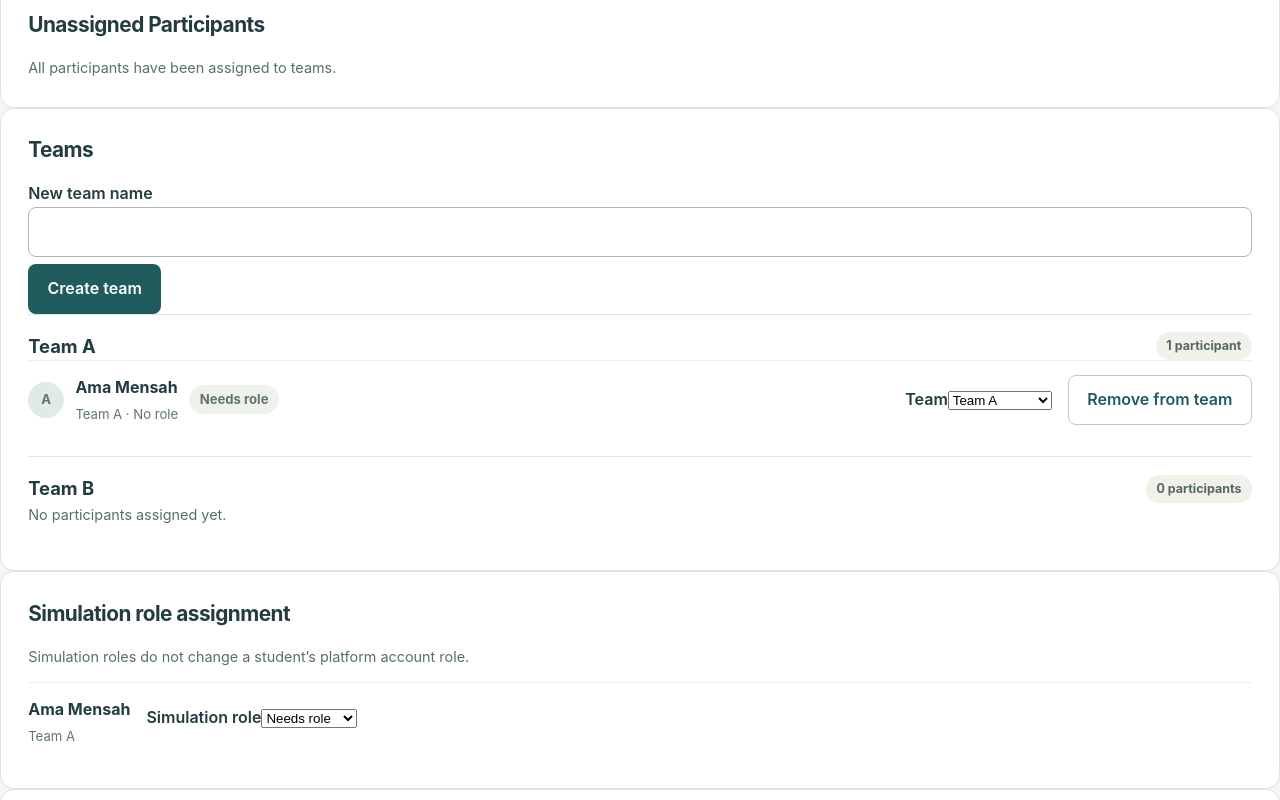
Test: instructor session setup › moves a participant between teams and removes them from the team using refreshed state
The image size is (1280, 800).
(page scrolled)
Check: the heading "Team A" is shown, box x1=28 y1=334 x2=96 y2=359
Select "Team B" in the dropdown named "Team for Ama Mensah": (1000, 401) x1=948 y1=391 x2=1052 y2=410
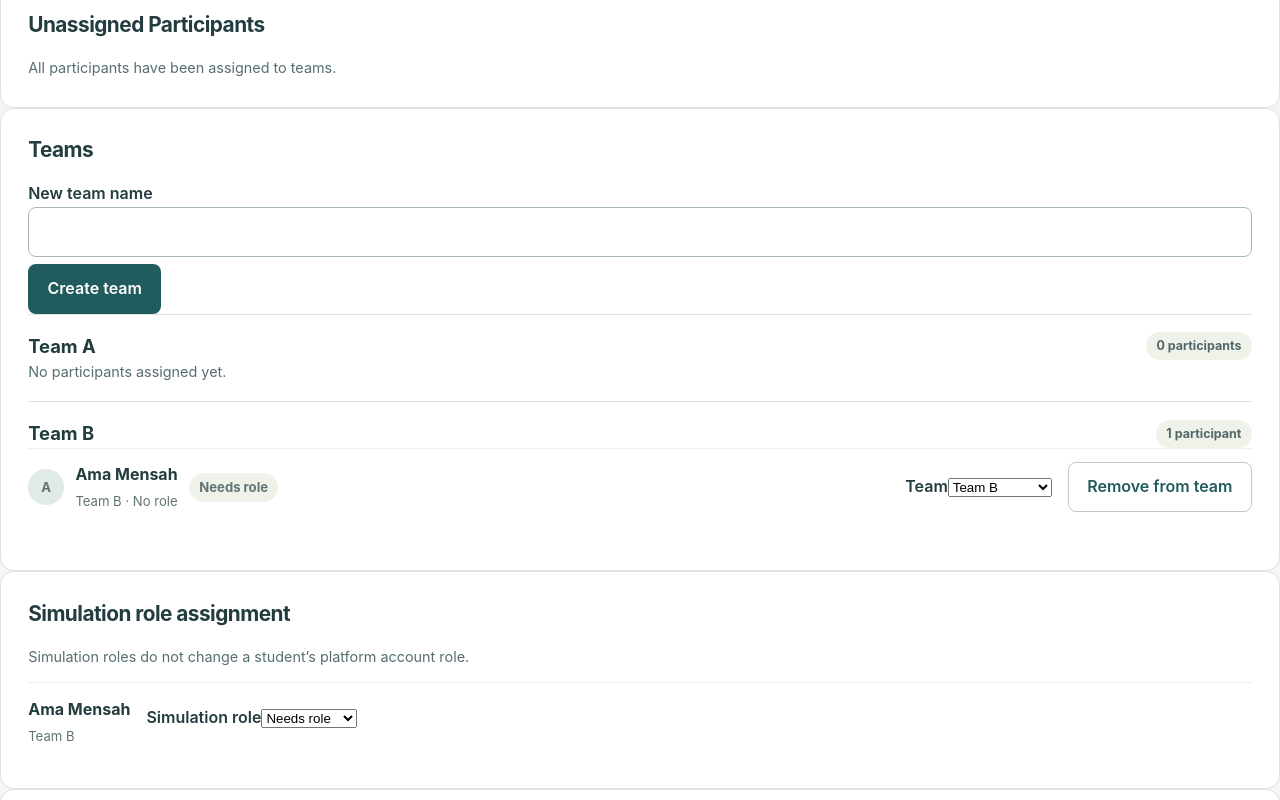
Check: the heading "Team B" is shown, box x1=28 y1=421 x2=94 y2=446
Click the button "Remove from team": click(1160, 487) x1=1068 y1=462 x2=1252 y2=512
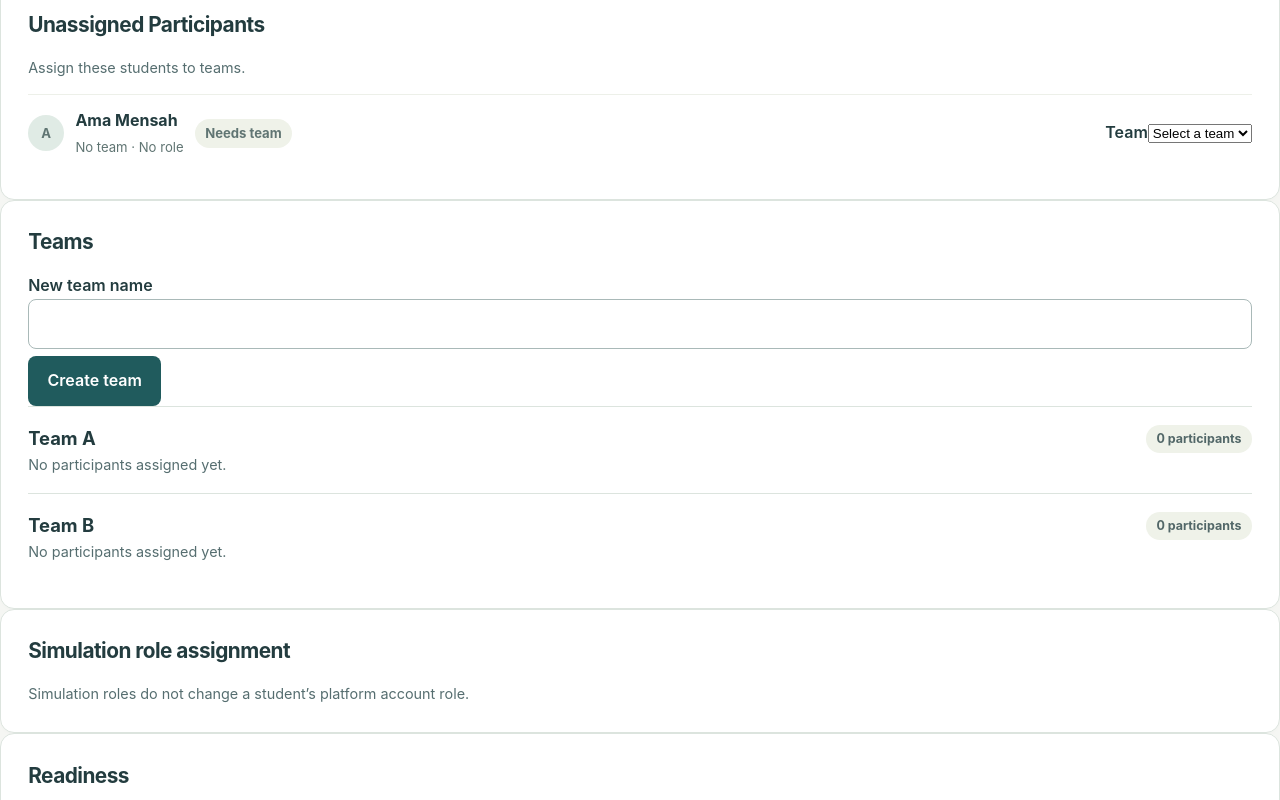
Check: the text "Assign these students to teams." is shown, box x1=28 y1=59 x2=245 y2=76
